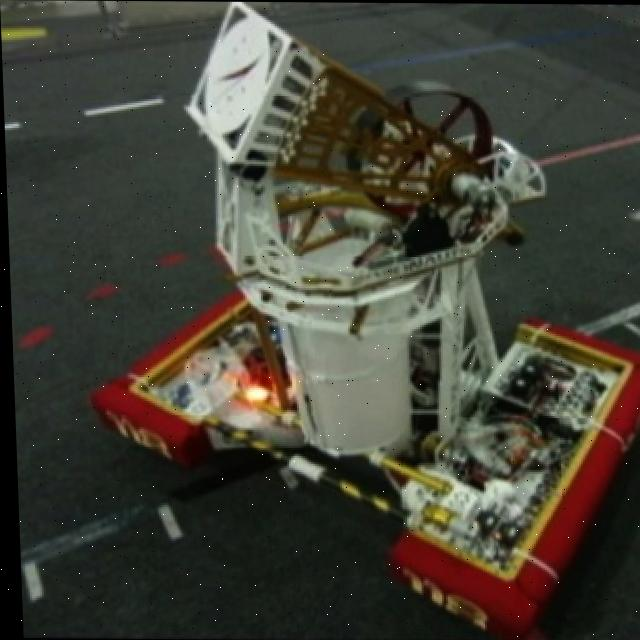robot: (76, 2, 640, 636)
